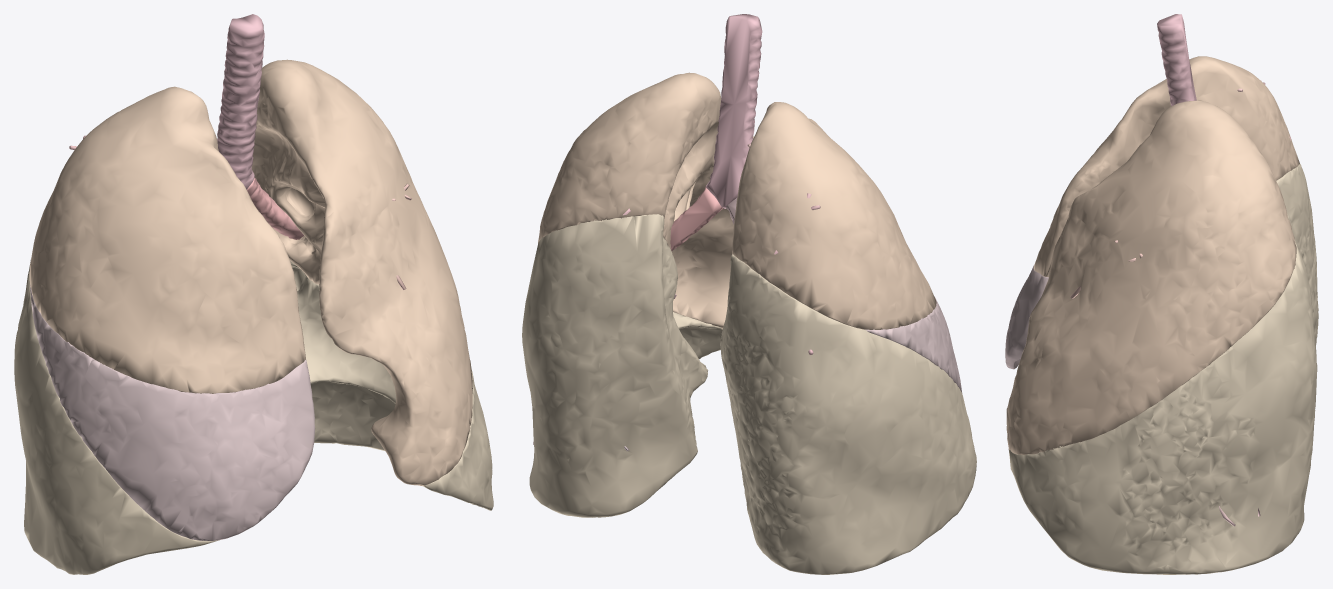
The model's file is body-respiratory.lod2.glb.
3 views of the same model, side by side, from view 1: azimuth 30°, elevation 25°; view 2: azimuth 150°, elevation 25°; view 3: azimuth 270°, elevation 25° (orthographic). The views are drawn at different scales.
Parts seen in each view (by area): view 1: upper-lobe-of-lung-r, upper-lobe-of-lung-l, middle-lobe-of-lung-r, lower-lobe-of-lung-r, lower-lobe-of-lung-l, trachea, main-bronchus-l; view 2: lower-lobe-of-lung-r, lower-lobe-of-lung-l, upper-lobe-of-lung-r, upper-lobe-of-lung-l, trachea, middle-lobe-of-lung-r, main-bronchus-l; view 3: upper-lobe-of-lung-l, lower-lobe-of-lung-l, upper-lobe-of-lung-r, lower-lobe-of-lung-r, trachea, middle-lobe-of-lung-r.
Boxes of the visible parts, <box> form: upper-lobe-of-lung-r: <box>29,86,305,393</box>; upper-lobe-of-lung-l: <box>251,59,472,485</box>; middle-lobe-of-lung-r: <box>30,285,315,541</box>; lower-lobe-of-lung-r: <box>14,260,219,574</box>; lower-lobe-of-lung-l: <box>290,261,493,510</box>; trachea: <box>217,14,264,189</box>; main-bronchus-l: <box>247,177,303,239</box>; lower-lobe-of-lung-r: <box>720,254,976,574</box>; lower-lobe-of-lung-l: <box>522,214,722,517</box>; upper-lobe-of-lung-r: <box>732,102,936,329</box>; upper-lobe-of-lung-l: <box>538,72,753,328</box>; trachea: <box>706,14,762,208</box>; middle-lobe-of-lung-r: <box>865,297,961,392</box>; main-bronchus-l: <box>670,186,723,250</box>; upper-lobe-of-lung-l: <box>1006,100,1296,454</box>; lower-lobe-of-lung-l: <box>1008,240,1317,574</box>; upper-lobe-of-lung-r: <box>1033,56,1299,276</box>; lower-lobe-of-lung-r: <box>1276,164,1318,345</box>; trachea: <box>1157,14,1196,106</box>; middle-lobe-of-lung-r: <box>1005,265,1048,369</box>.
Bounding box in the file's own units: 0.2533 × 0.2978 × 0.1809.
